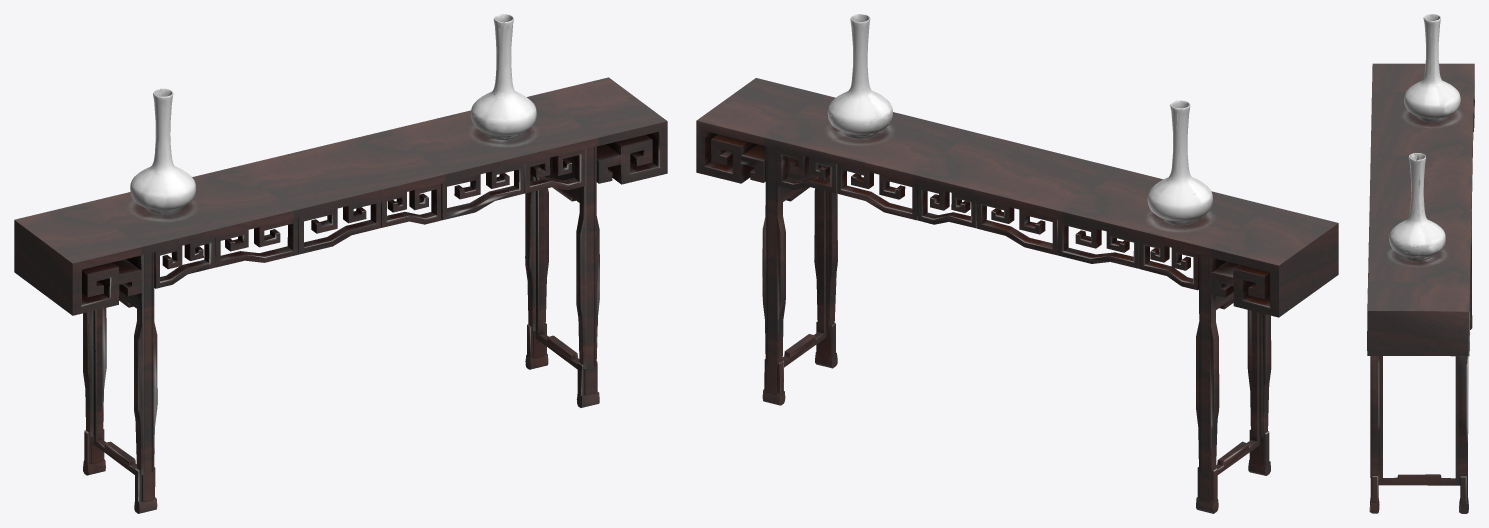
File: raw_model.obj
The picture shows the model from 3 angles, left to right: view 1: azimuth 30°, elevation 25°; view 2: azimuth 150°, elevation 25°; view 3: azimuth 270°, elevation 25°; orthographic projection. The views are drawn at different scales.
Visible parts, largest first — view 1: solid_002, solid_001; view 2: solid_002, solid_001; view 3: solid_002, solid_001.
Boxes of the visible parts, x1,y1,x2,y2 form: solid_002: [14, 77, 667, 513]; solid_001: [130, 14, 536, 214]; solid_002: [696, 78, 1338, 513]; solid_001: [827, 14, 1212, 224]; solid_002: [1367, 63, 1474, 513]; solid_001: [1389, 14, 1460, 260].
Size of the model in its own units: 2.16 by 1.33 by 0.3964.
1 material, 1 textured.
